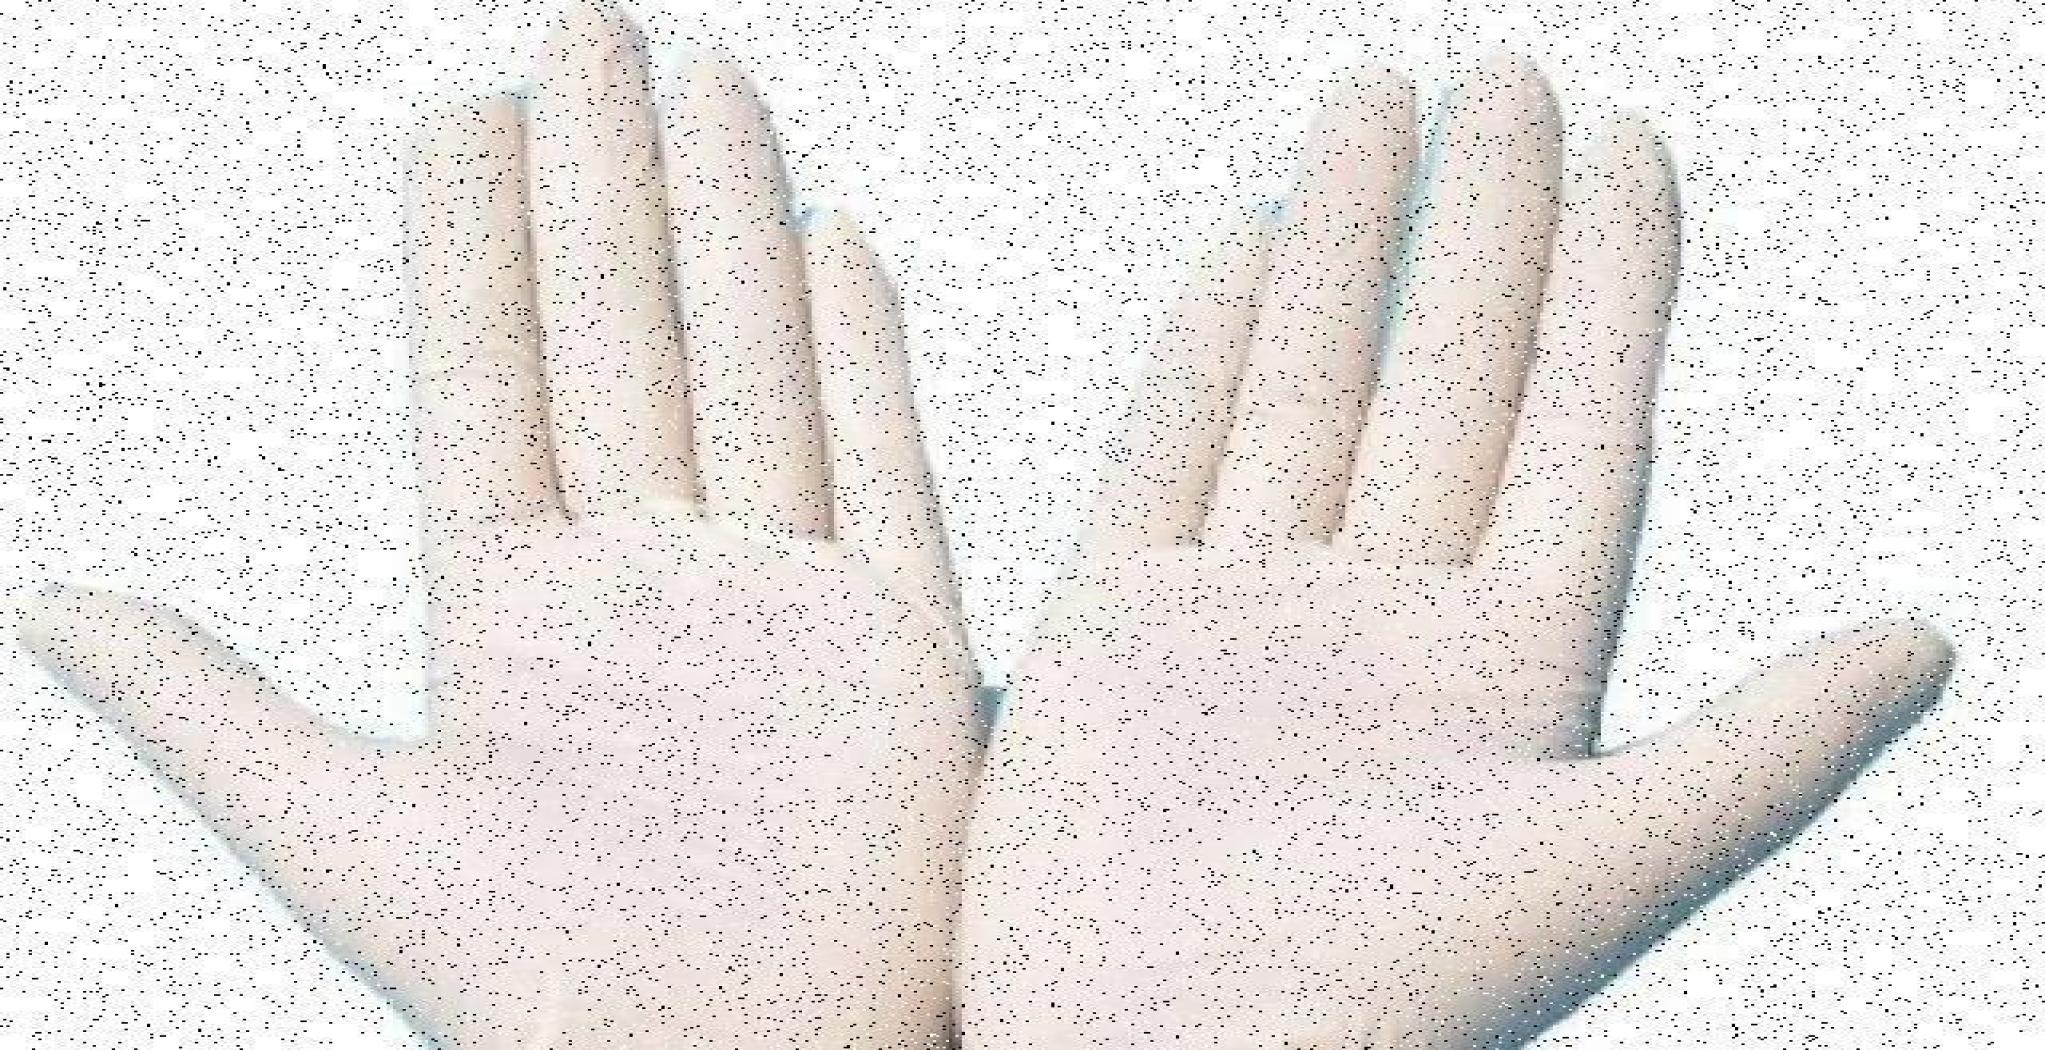gloved: (88, 50, 1079, 1035), (1015, 100, 1978, 1031)
